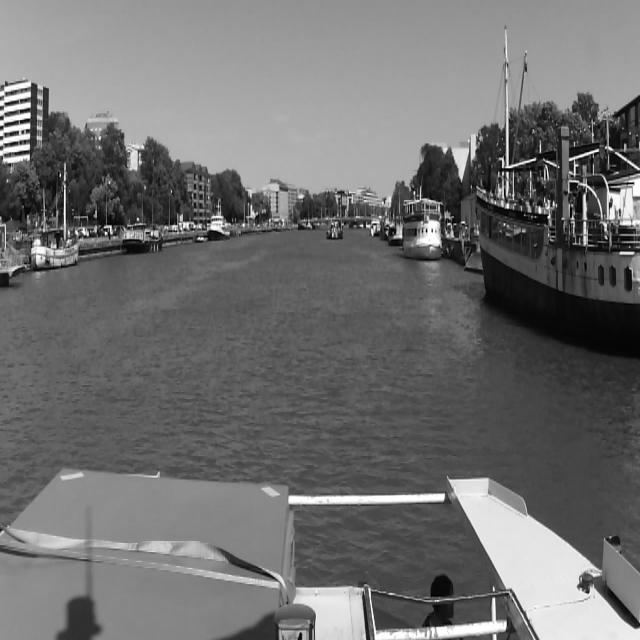buoy: (122, 227, 162, 253)
ship: (475, 184, 640, 354), (402, 200, 442, 260), (32, 232, 80, 268), (1, 242, 26, 284), (208, 216, 230, 241), (389, 220, 401, 242), (370, 218, 380, 237), (380, 218, 388, 240)
